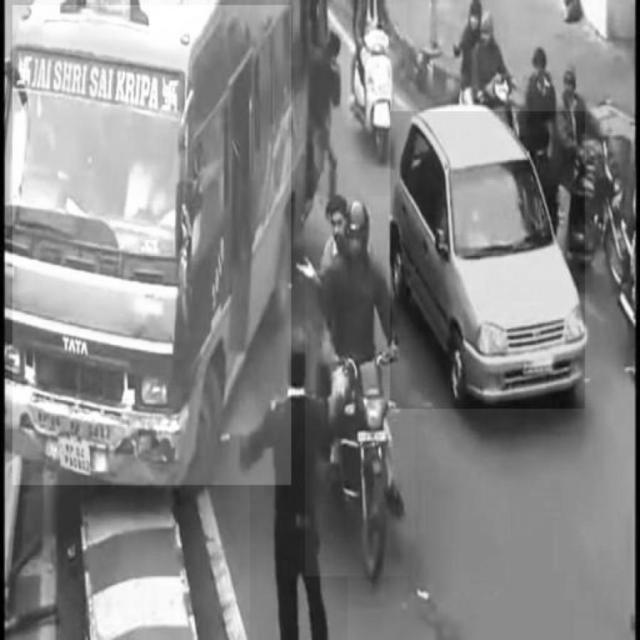person: (250, 340, 348, 640)
vehicle: (13, 5, 291, 485), (391, 112, 586, 409), (305, 196, 415, 576), (348, 4, 406, 161)
